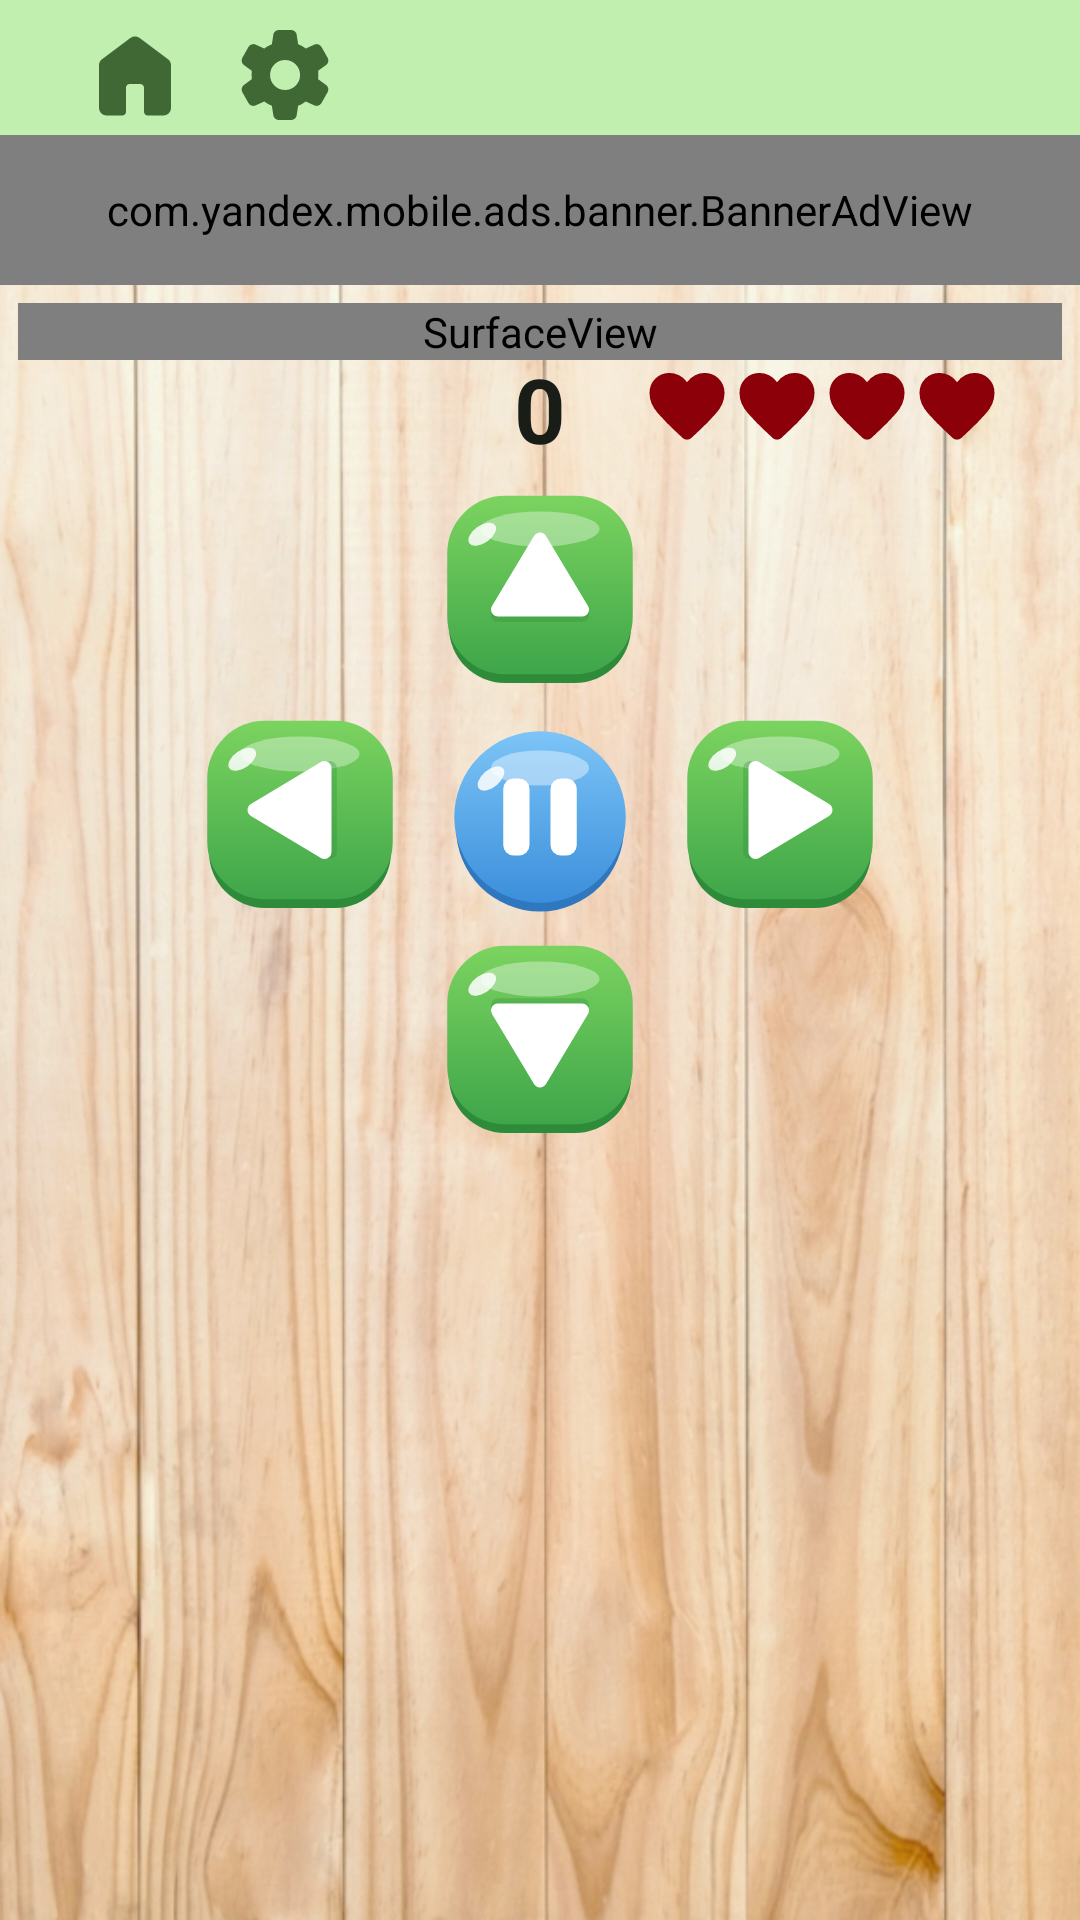

Icon bounding boxes for this 1080×1920 phone screenshot, format (x1, y1, x2, y2):
down: (435, 937, 645, 1147)
home: (99, 36, 171, 116)
left: (207, 712, 405, 922)
live: (919, 363, 995, 453), (649, 373, 725, 452), (739, 373, 815, 452), (829, 373, 905, 440)
pause: (454, 712, 642, 922)
right: (687, 712, 885, 922)
settings: (241, 30, 329, 120)
